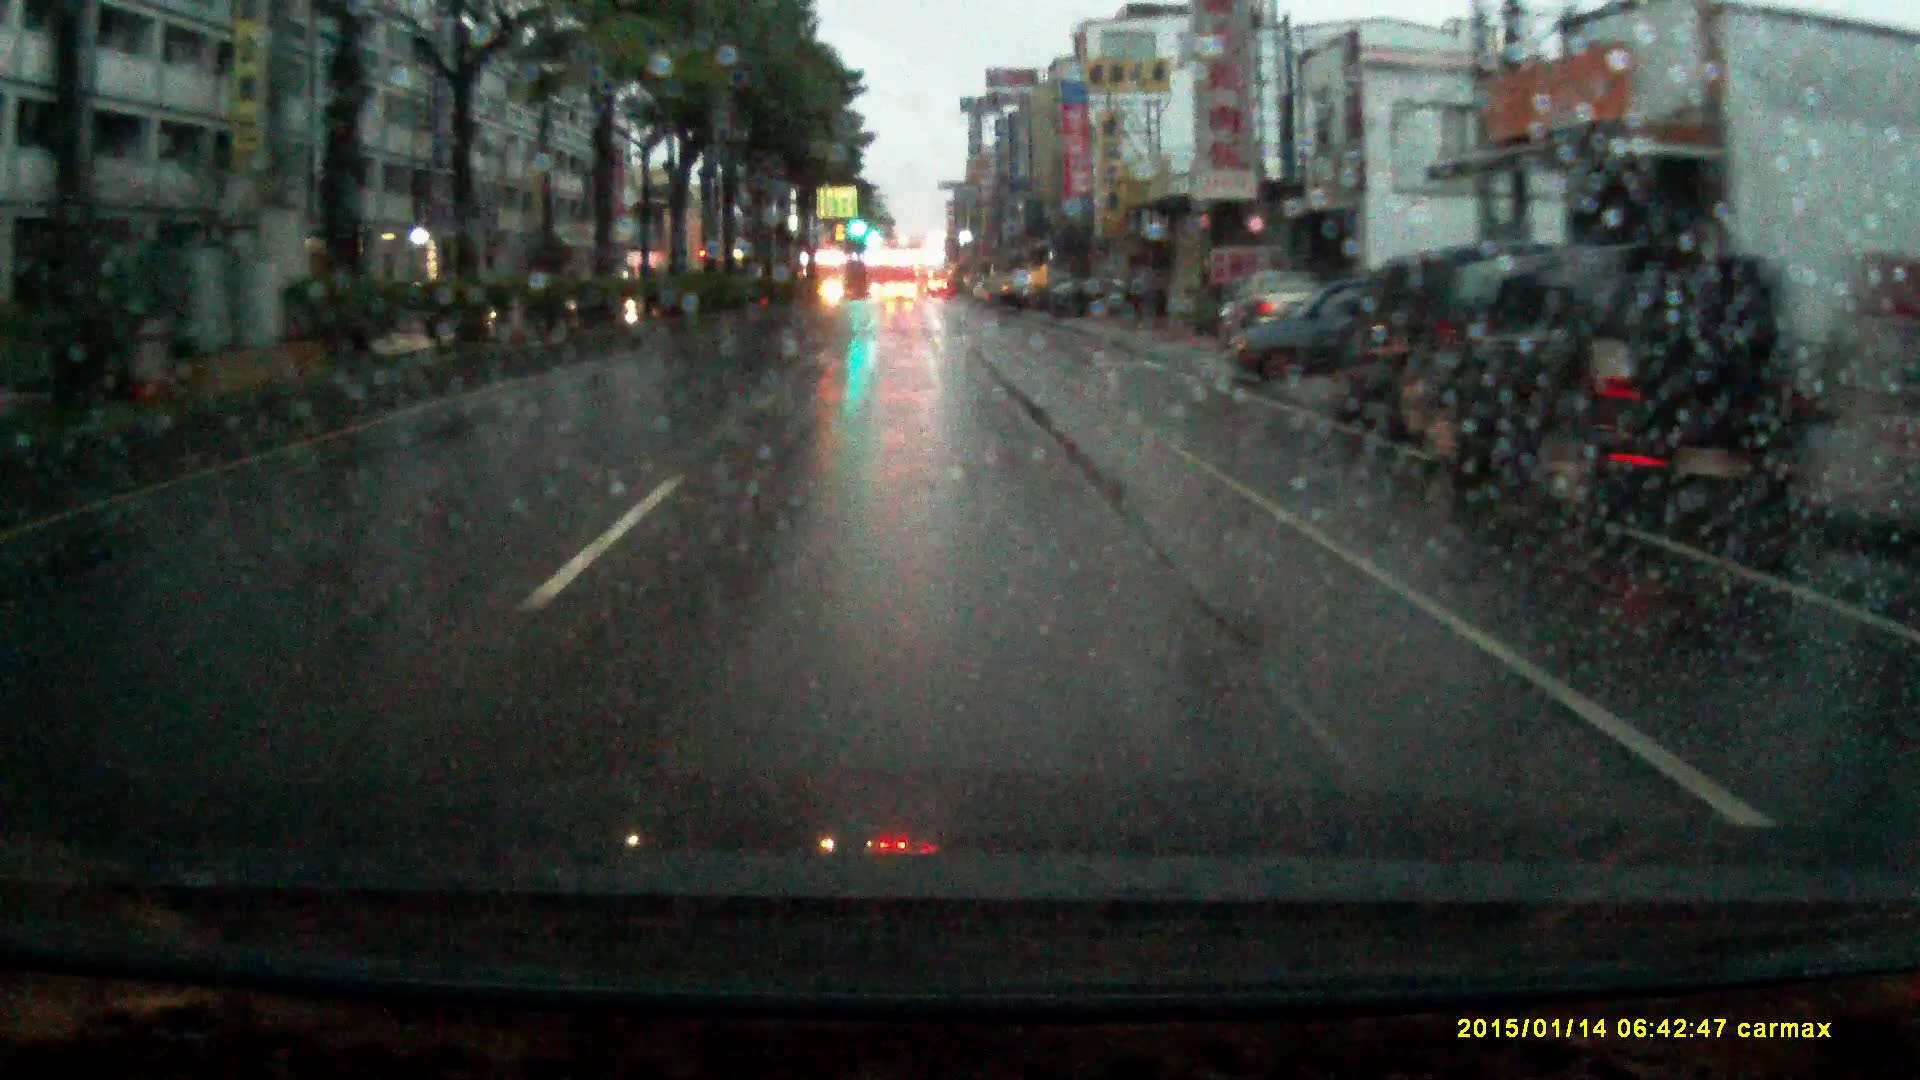vehicle: (1424, 253, 1807, 549), (1313, 253, 1600, 462), (1218, 287, 1393, 397), (1218, 276, 1331, 349), (982, 276, 1029, 313), (886, 284, 918, 309)
